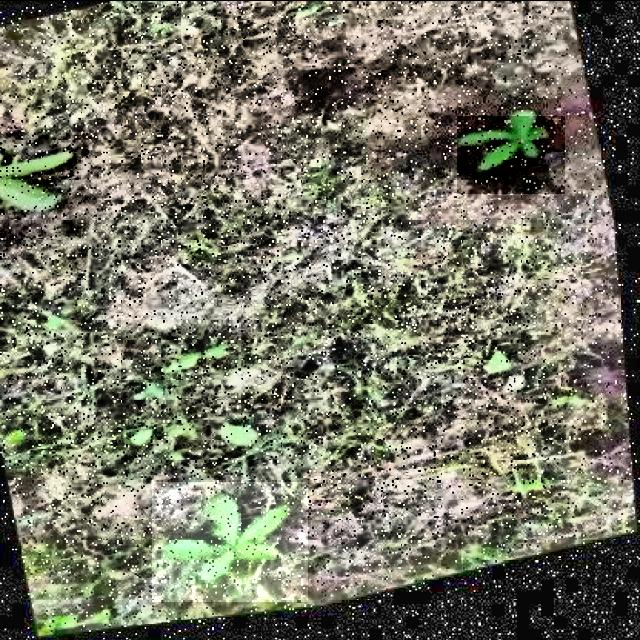Weeds: (152, 481, 308, 601), (0, 129, 91, 240), (457, 115, 565, 193)
